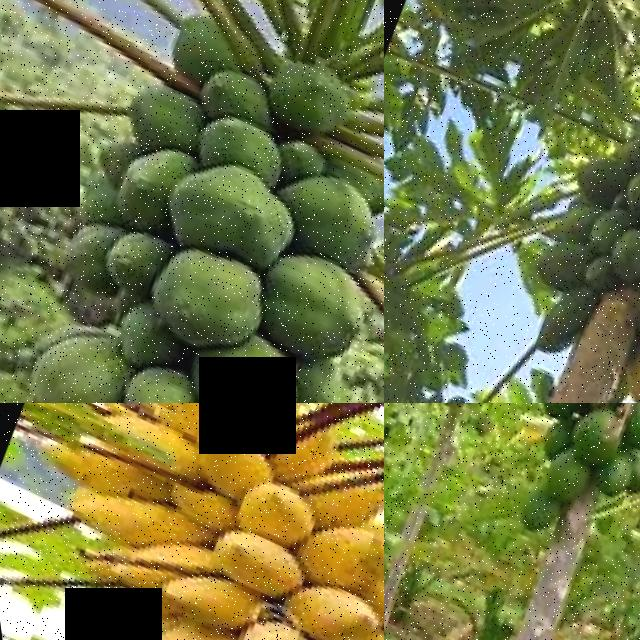pawpaw: (141, 143, 299, 277), (228, 245, 378, 383), (124, 231, 267, 358), (90, 128, 197, 242), (270, 172, 383, 273), (0, 314, 127, 403), (249, 48, 363, 146), (164, 324, 304, 403), (181, 103, 288, 190), (511, 275, 595, 367), (81, 217, 169, 303), (550, 403, 623, 478), (87, 353, 195, 403), (521, 440, 591, 514), (592, 225, 640, 291), (597, 337, 640, 403), (615, 279, 640, 359)
